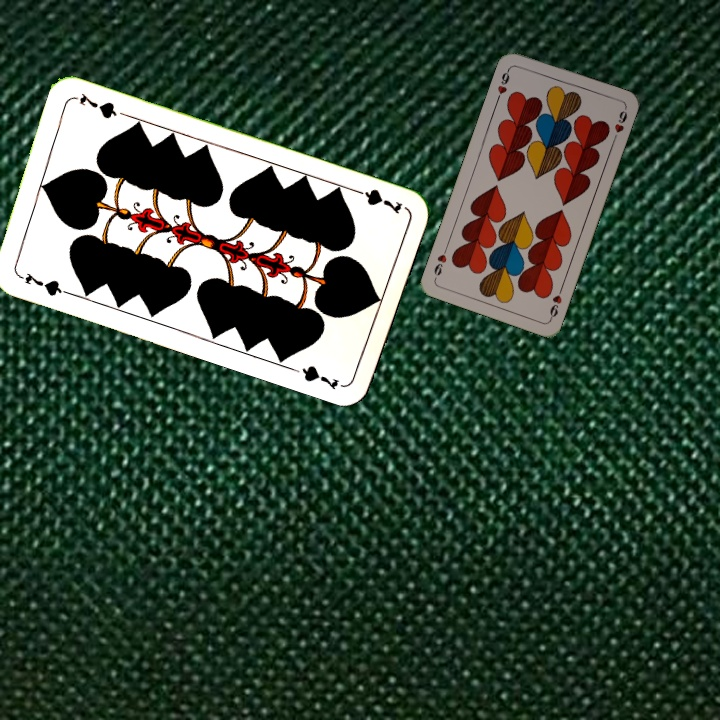G7: (348, 184, 405, 217), (13, 268, 71, 299)
H9: (493, 64, 513, 103), (546, 283, 565, 322)
